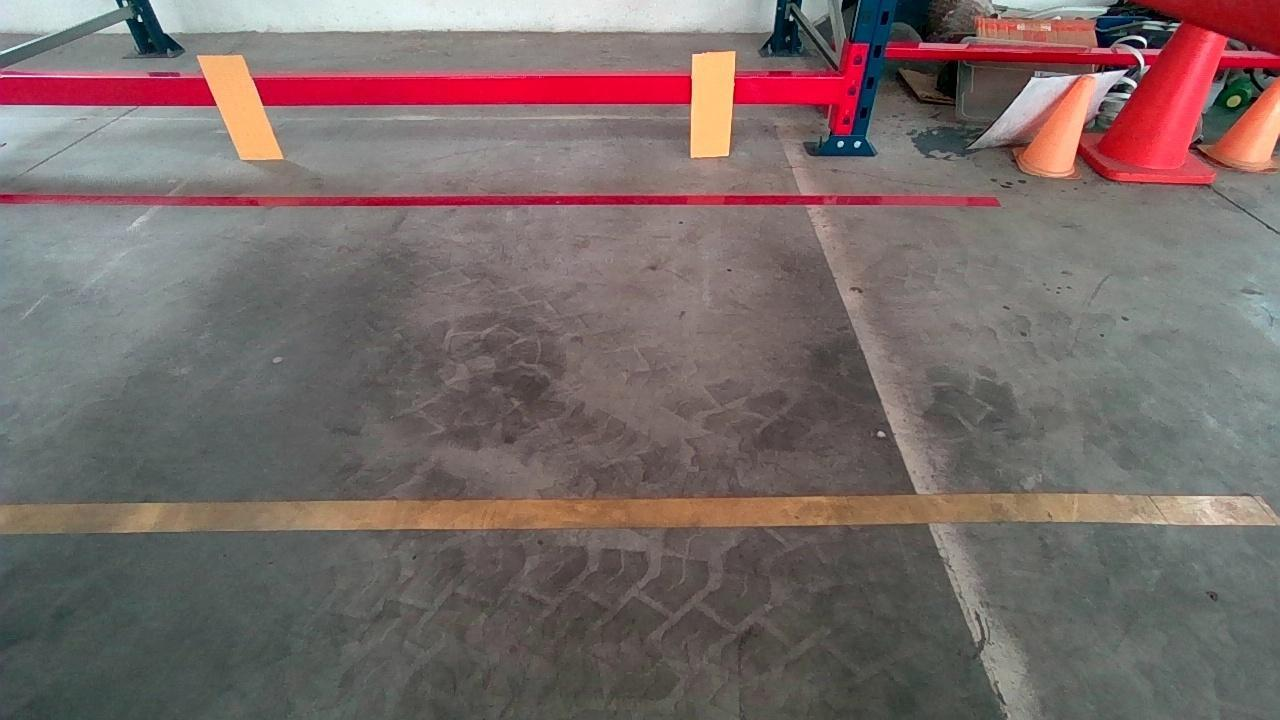h_rack: (5, 62, 829, 116)
orange_strip: (199, 55, 284, 158), (690, 52, 735, 154)
red_line: (11, 179, 987, 215)
yellow_line: (22, 475, 1264, 551)
